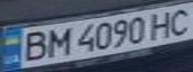0: (127, 12, 151, 44), (93, 19, 115, 51)
4: (75, 20, 96, 53)
9: (109, 17, 133, 48)
B: (15, 28, 51, 62)
C: (163, 4, 193, 36)
H: (145, 8, 178, 39)
M: (42, 25, 72, 58)
